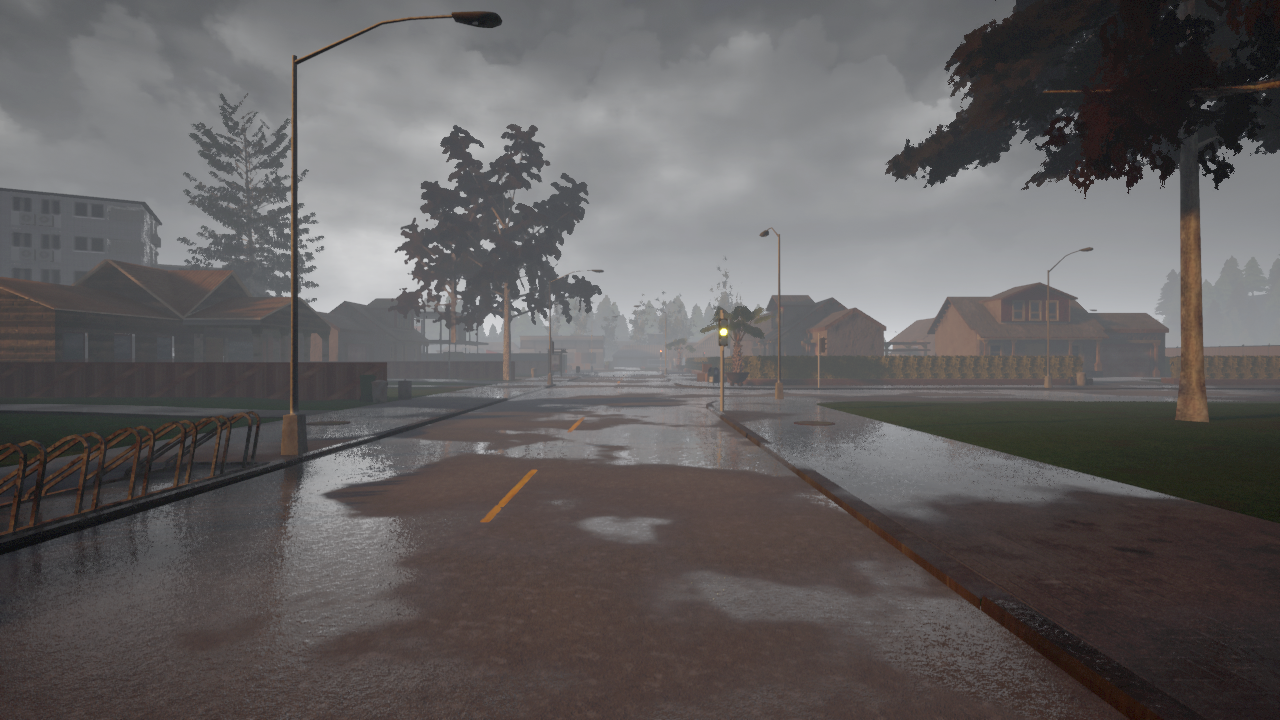yellow: (717, 317, 728, 349)
